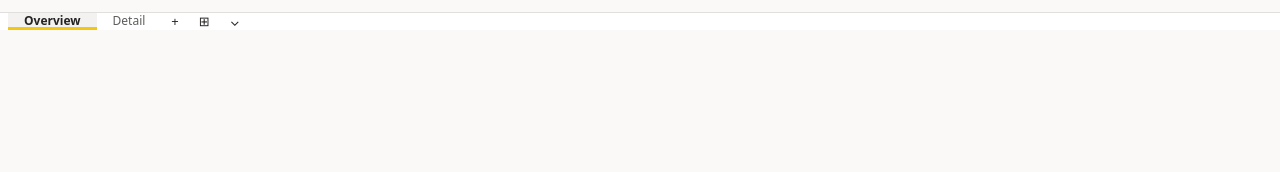
Test: PageBar › starts a rename on double-clicking the active tab
Double-click the button "Overview": (52, 21) [8,13,96,30]
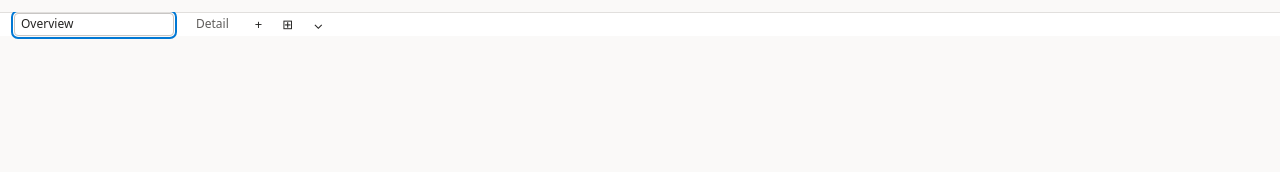
Expected: the field named "page name" holds "Overview", [14,13,174,36]
